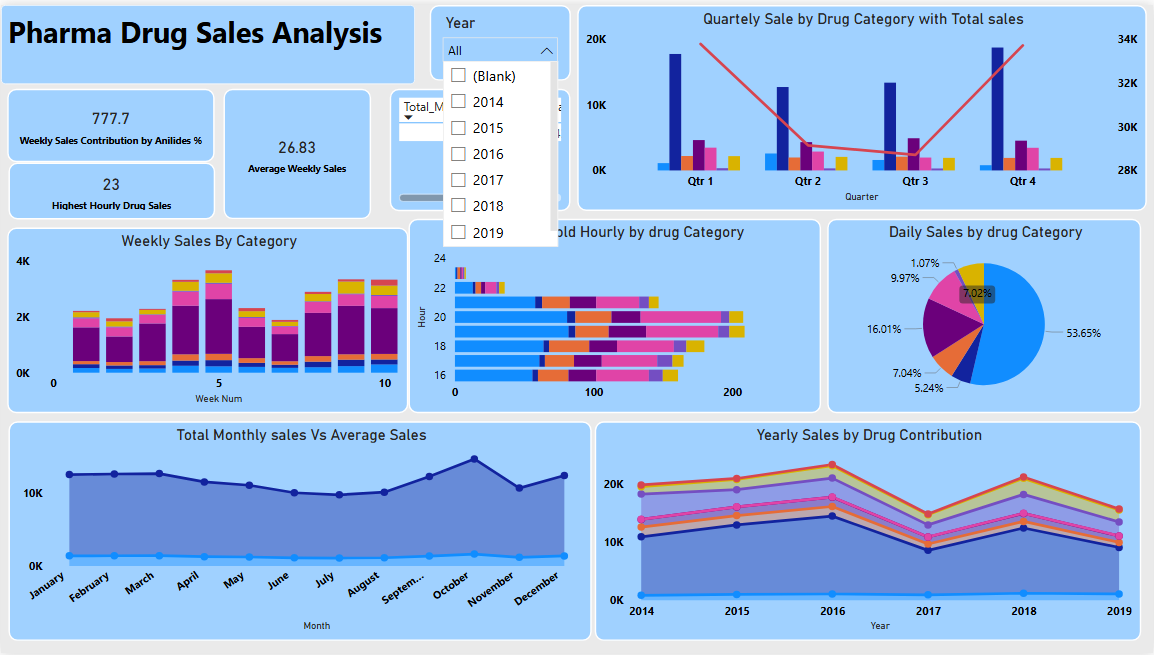

What the dashboard file says about the page in this screenshot:
{"tool":"powerbi","page":{"name":"Page 1","canvas":[1280,720],"ordinal":0},"visuals":[{"type":"textbox","box":[0,0,460,88],"z":0},{"type":"columnChart","title":"Weekly Sales By Category","fields":{"Category":["Sales Weekly.Week Num"],"Y":["Sum(Sales Weekly.M01AB)","Sum(Sales Weekly.M01AE)","Sum(Sales Weekly.N02BA)","Sum(Sales Weekly.N02BE)","Sum(Sales Weekly.N05B)","Sum(Sales Weekly.N05C)","Sum(Sales Weekly.R03)","Sum(Sales Weekly.R06)"]},"box":[7.6,247.8,445.7,206.5],"z":1},{"type":"stackedAreaChart","title":"Total Monthly sales Vs Average Sales ","fields":{"Category":["Sales Monthly.Date.Variation.Date Hierarchy.Month"],"Y":["Sales Monthly.Average Monthly Sales","Sales Monthly.Total_Monthly_Sales"]},"box":[9,463,648,244],"z":2},{"type":"barChart","title":"Quantity  sold Hourly by drug Category","fields":{"Category":["Sales Hourly.Hour"],"Y":["Count(Sales Hourly.Anilides)","Count(Sales Hourly.Allergy medicines)","Count(Sales Hourly.Pain relief medicines)","Count(Sales Hourly.Rheumatic products)","Count(Sales Hourly.Anti-inflammatory medicines)","Count(Sales Hourly.Anxiolytic medicines)","Count(Sales Hourly.Asthma/respiratory medicines)"]},"box":[453,238,458,216],"z":3},{"type":"pieChart","title":"Daily Sales by drug Category","fields":{"Y":["Sum(Sales Monthly.Anilides)","Sum(Sales daily.Allergy medicines)","Sum(Sales daily.Anti-inflammatory medicines)","Sum(Sales daily.Anxiolytic medicines)","Sum(Sales daily.Asthma/respiratory medicines)","Sum(Sales daily.Hypnotics and sedatives)","Sum(Sales daily.Pain relief medicines)"]},"box":[918,238,349,216],"z":4},{"type":"stackedAreaChart","title":"Yearly Sales by Drug Contribution","fields":{"Category":["Sales Monthly.Date.Variation.Date Hierarchy.Year"],"Y":["Sum(Sales Monthly.Allergy medicines)","Sum(Sales Monthly.Anilides)","Sum(Sales Monthly.Pain relief medicines)","Sum(Sales Monthly.Anti-inflammatory medicines)","CountNonNull(Sales Monthly.Rheumatic products)","Sum(Sales Monthly.Anxiolytic medicines)","Sum(Sales Monthly.Asthma/respiratory medicines)","Sum(Sales Monthly.Hypnotics and sedatives)"]},"box":[660,463,607,244],"z":5},{"type":"lineClusteredColumnComboChart","title":"Quartely Sale by Drug Category with Total sales","fields":{"Category":["Sales Monthly.Date.Variation.Date Hierarchy.Quarter"],"Y":["Sum(Sales Monthly.Allergy medicines)","Sum(Sales Monthly.Anilides)","Sum(Sales Monthly.Anti-inflammatory medicines)","Sum(Sales Monthly.Anxiolytic medicines)","Sum(Sales Monthly.Asthma/respiratory medicines)","Sum(Sales Monthly.Hypnotics and sedatives)","Sum(Sales Monthly.Pain relief medicines)"],"Y2":["Sales Monthly.Total_Monthly_Sales"]},"box":[640,0,633,229],"z":6},{"type":"card","fields":{"Values":["Sales Weekly.Average Weekly Sales"]},"box":[247.8,93.5,164.1,144.6],"z":7},{"type":"card","fields":{"Values":["Sales Hourly.Weekly Sales Contribution by Anilides %"]},"box":[7.6,93.5,230.4,81.5],"z":8},{"type":"card","fields":{"Values":["Sales Hourly.Highest Hourly Drug Sales"]},"box":[8.7,175,229.3,63],"z":9},{"type":"slicer","fields":{"Values":["Sales Monthly.Date.Variation.Date Hierarchy.Year"]},"box":[477,0,157,84],"z":10},{"type":"tableEx","fields":{"Values":["Sales Monthly.Total_Monthly_Sales","Sales daily.Daily Sales"]},"box":[432.6,93.5,201.1,135.9],"z":11}]}

Visuals, with their boxes in screenshot pixels (x1, y1, x2, y2), scaled from the page's 1280x720 canvas onto the 1154x655 screenshot:
textbox: box(0, 0, 415, 80)
"Weekly Sales By Category" columnChart: box(7, 225, 409, 413)
"Total Monthly sales Vs Average Sales " stackedAreaChart: box(8, 421, 592, 643)
"Quantity  sold Hourly by drug Category" barChart: box(408, 217, 821, 413)
"Daily Sales by drug Category" pieChart: box(828, 217, 1142, 413)
"Yearly Sales by Drug Contribution" stackedAreaChart: box(595, 421, 1142, 643)
"Quartely Sale by Drug Category with Total sales" lineClusteredColumnComboChart: box(577, 0, 1148, 208)
card - Sales Weekly.Average Weekly Sales: box(223, 85, 371, 217)
card - Sales Hourly.Weekly Sales Contribution by Anilides %: box(7, 85, 215, 159)
card - Sales Hourly.Highest Hourly Drug Sales: box(8, 159, 215, 217)
slicer - Sales Monthly.Date.Variation.Date Hierarchy.Year: box(430, 0, 572, 76)
tableEx - Sales Monthly.Total_Monthly_Sales x Sales daily.Daily Sales: box(390, 85, 571, 209)
